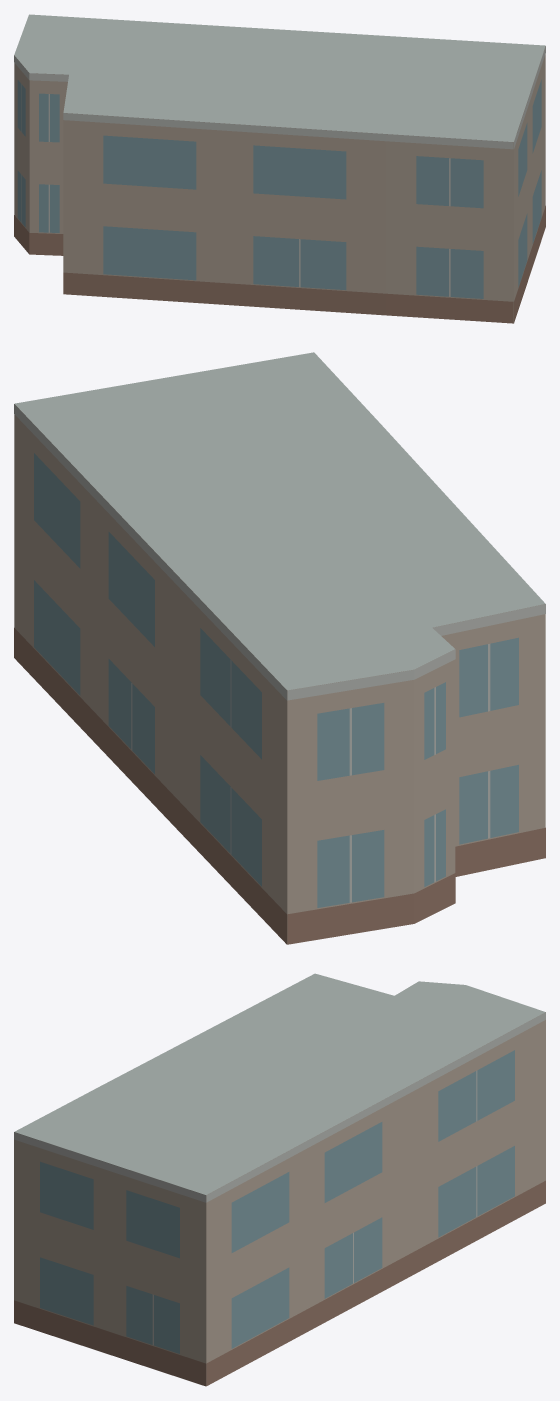
Rendered from survey-upis-32661320.glb.
3 renders of one model, top to bottom at view 1: azimuth 30°, elevation 25°; view 2: azimuth 150°, elevation 25°; view 3: azimuth 270°, elevation 25°, orthographic. The views are drawn at different scales.
Parts seen in each view (by area): view 1: survey-upis-32661320.tmp; view 2: survey-upis-32661320.tmp; view 3: survey-upis-32661320.tmp.
Part boxes in pixels (x1=…): survey-upis-32661320.tmp: x1=14, y1=14, x2=545, y2=323; survey-upis-32661320.tmp: x1=14, y1=352, x2=545, y2=944; survey-upis-32661320.tmp: x1=14, y1=973, x2=545, y2=1386.
Bounding box in the file's own units: 15.17 × 6.1 × 15.38.
